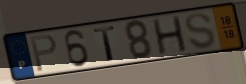6: (63, 29, 91, 69)
8: (124, 19, 155, 62)
H: (151, 14, 190, 57)
P: (29, 33, 59, 74)
S: (184, 11, 218, 51)
T: (92, 24, 118, 63)
